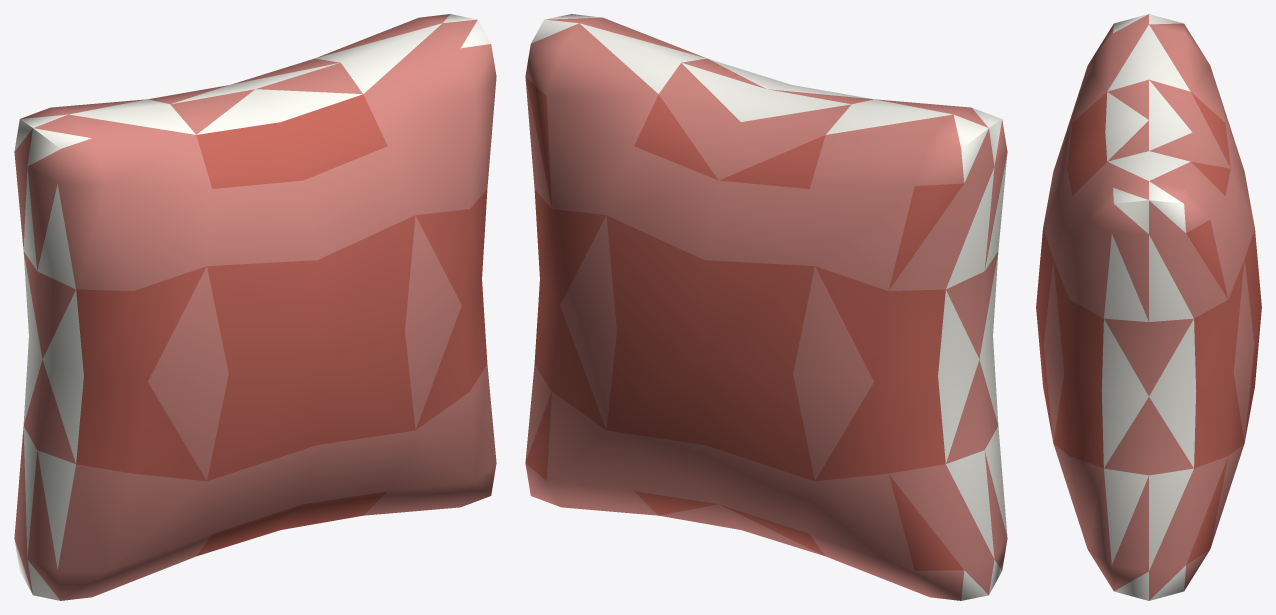
The model's file is itch_tiny_pleasant_picnic_pillow_large_red.glb.
3 renders of one model, left to right at view 1: azimuth 30°, elevation 25°; view 2: azimuth 150°, elevation 25°; view 3: azimuth 270°, elevation 25°, orthographic. The views are drawn at different scales.
Parts seen in each view (by area): view 1: pillow_large_red; view 2: pillow_large_red; view 3: pillow_large_red.
Part boxes in pixels (x1,y1,x2,y2): pillow_large_red: (14, 14, 496, 600); pillow_large_red: (525, 14, 1007, 600); pillow_large_red: (1036, 14, 1261, 600).
Size of the model in its own units: 0.96 by 0.96 by 0.48.
